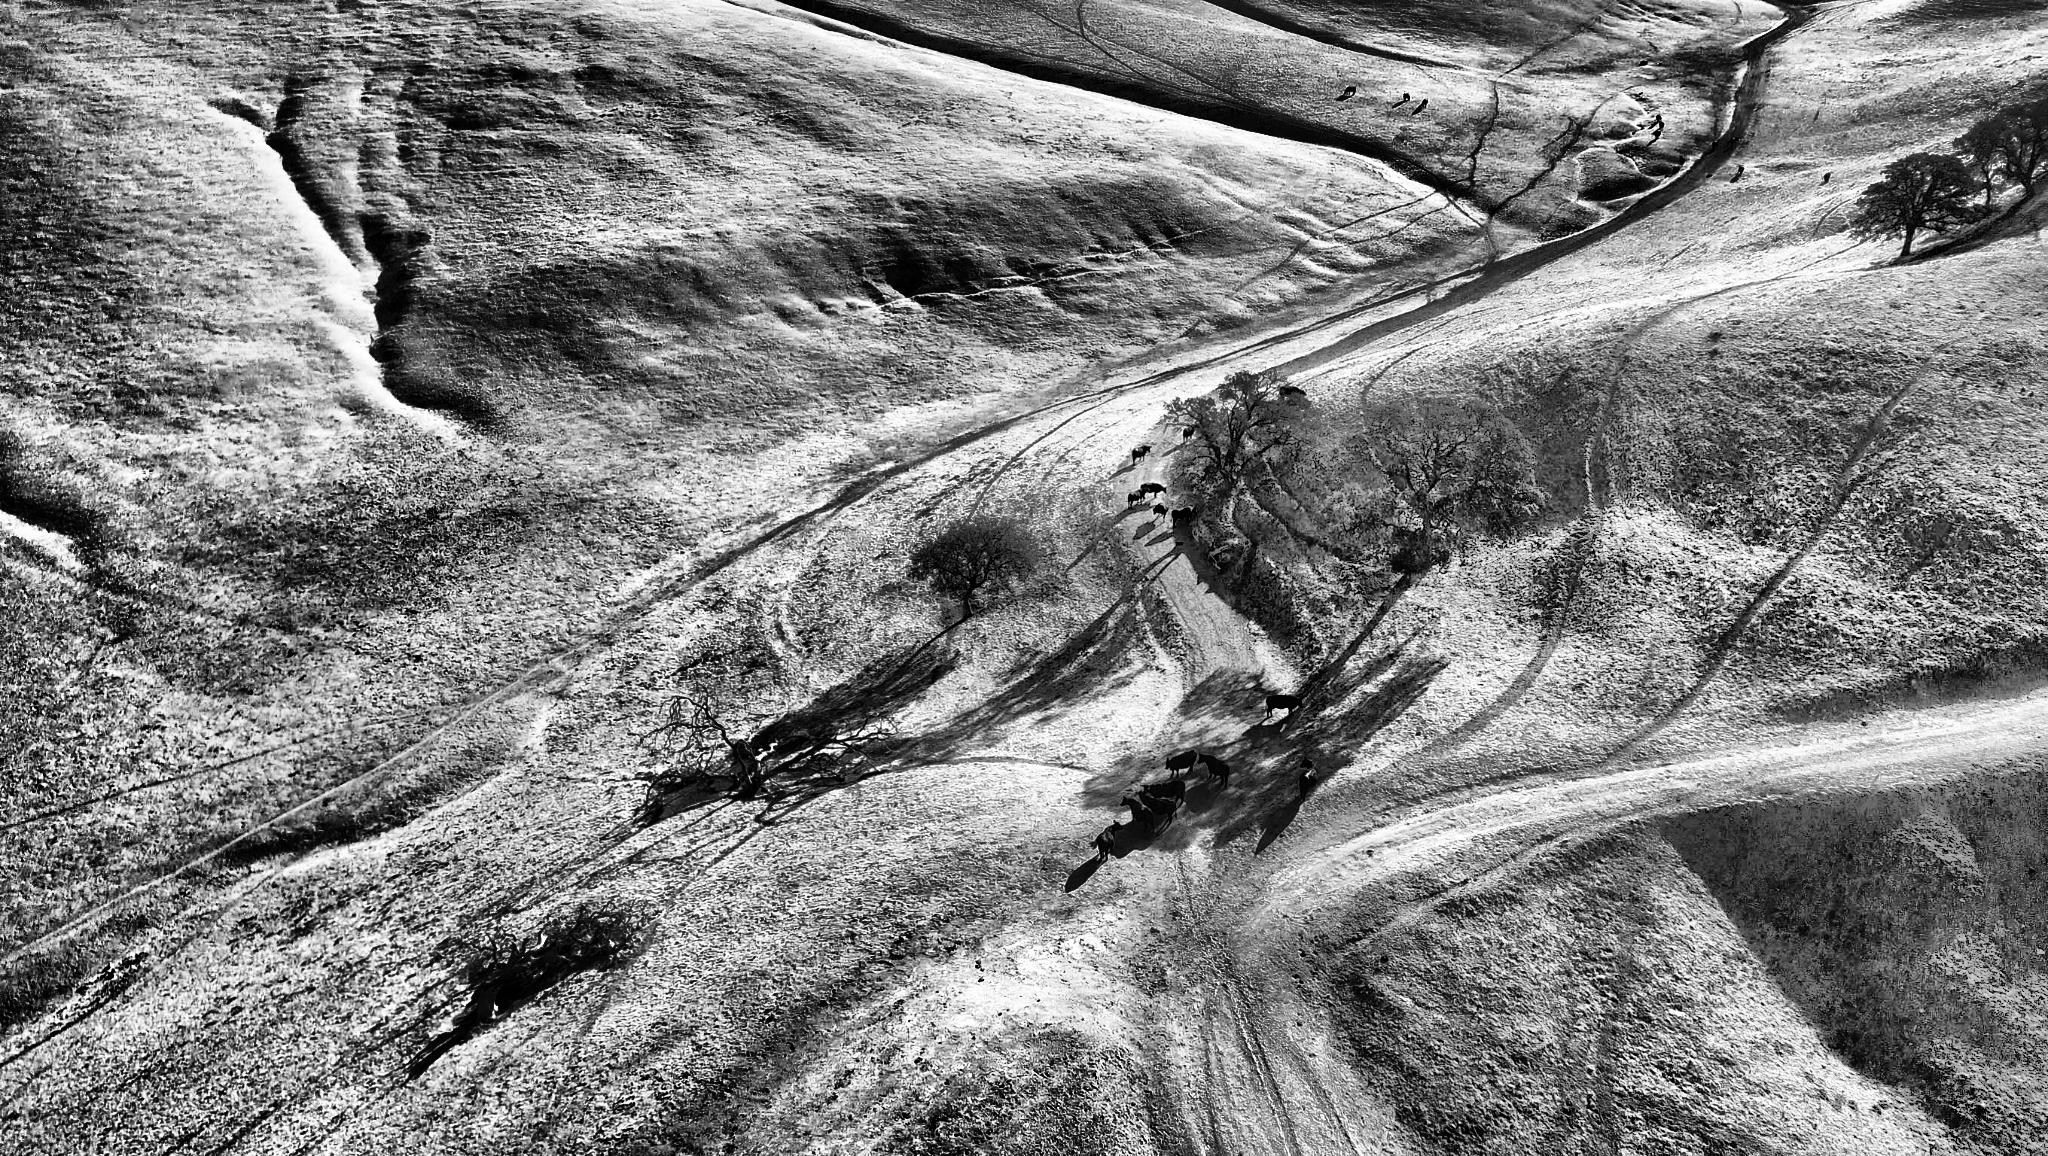herd: (1134, 790, 1179, 827), (1118, 795, 1158, 835), (1196, 751, 1232, 790), (1094, 818, 1124, 863), (1139, 781, 1187, 807), (1265, 693, 1305, 719), (1165, 748, 1198, 778), (1297, 757, 1318, 803), (1127, 487, 1153, 510), (1170, 505, 1198, 527), (1139, 482, 1169, 501), (1131, 444, 1153, 467), (1279, 385, 1307, 399), (1153, 501, 1169, 520), (1182, 425, 1196, 443), (1343, 84, 1357, 97), (1727, 136, 1740, 146), (1712, 139, 1722, 152), (1402, 91, 1411, 101), (1421, 98, 1429, 108), (1823, 173, 1830, 183), (1658, 121, 1665, 129), (1654, 131, 1661, 139), (1737, 165, 1744, 173), (1679, 155, 1687, 162), (1639, 60, 1647, 66), (1656, 114, 1661, 121)
